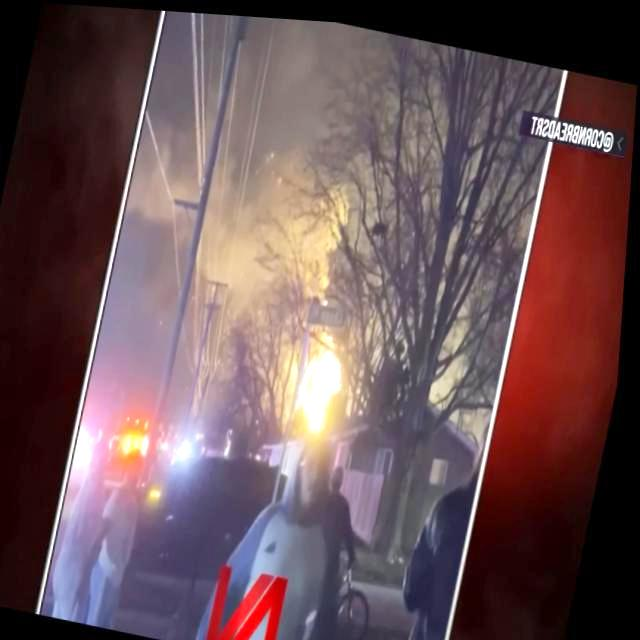fire: (286, 321, 362, 439)
